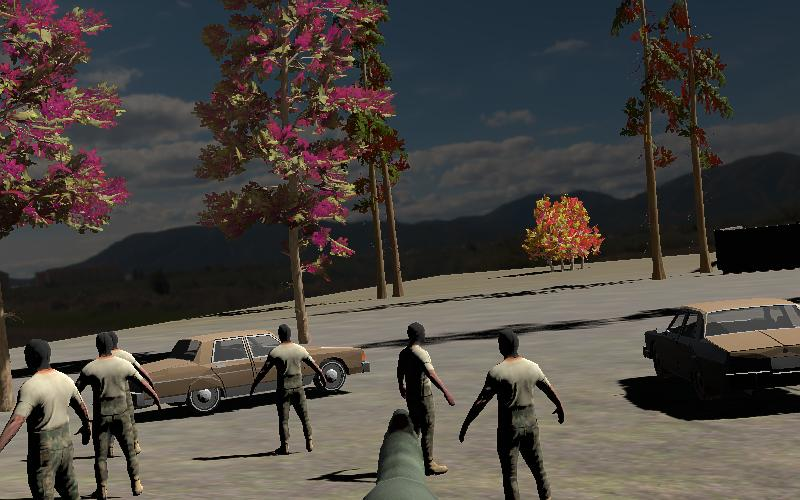Human: (457, 322, 569, 499), (71, 326, 165, 499), (0, 332, 95, 500), (249, 320, 329, 457), (392, 315, 459, 478)
car: (131, 326, 371, 414), (638, 296, 800, 405)
